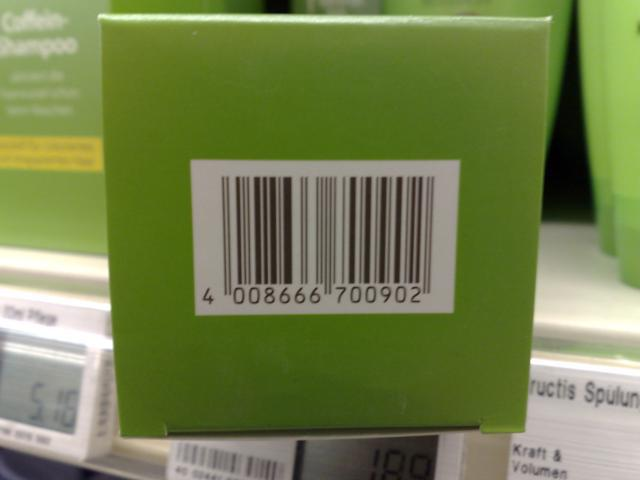Barkod: (218, 176, 432, 286)
